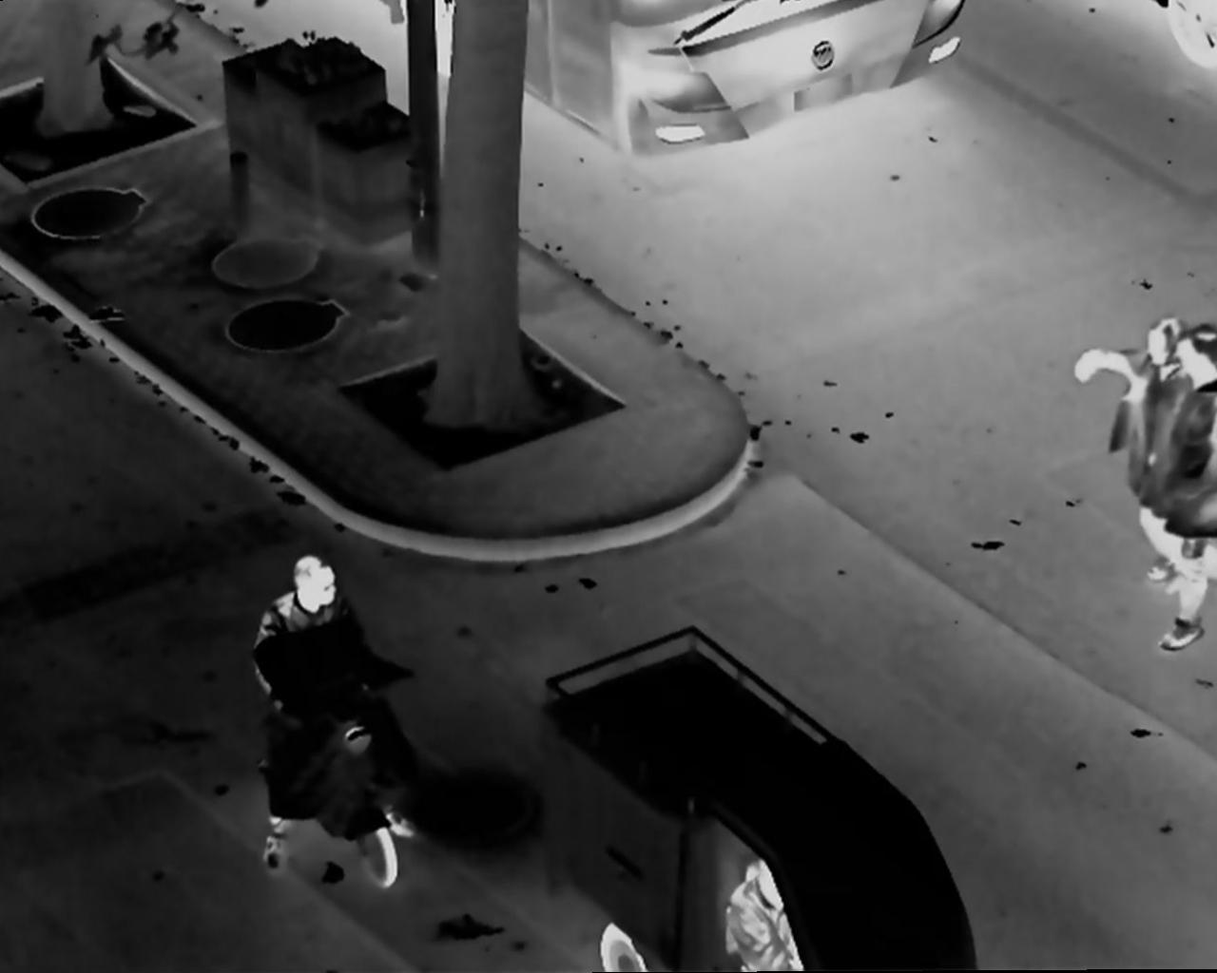person: (246, 551, 426, 874), (1075, 306, 1192, 584), (1157, 321, 1217, 651), (726, 860, 808, 973)
